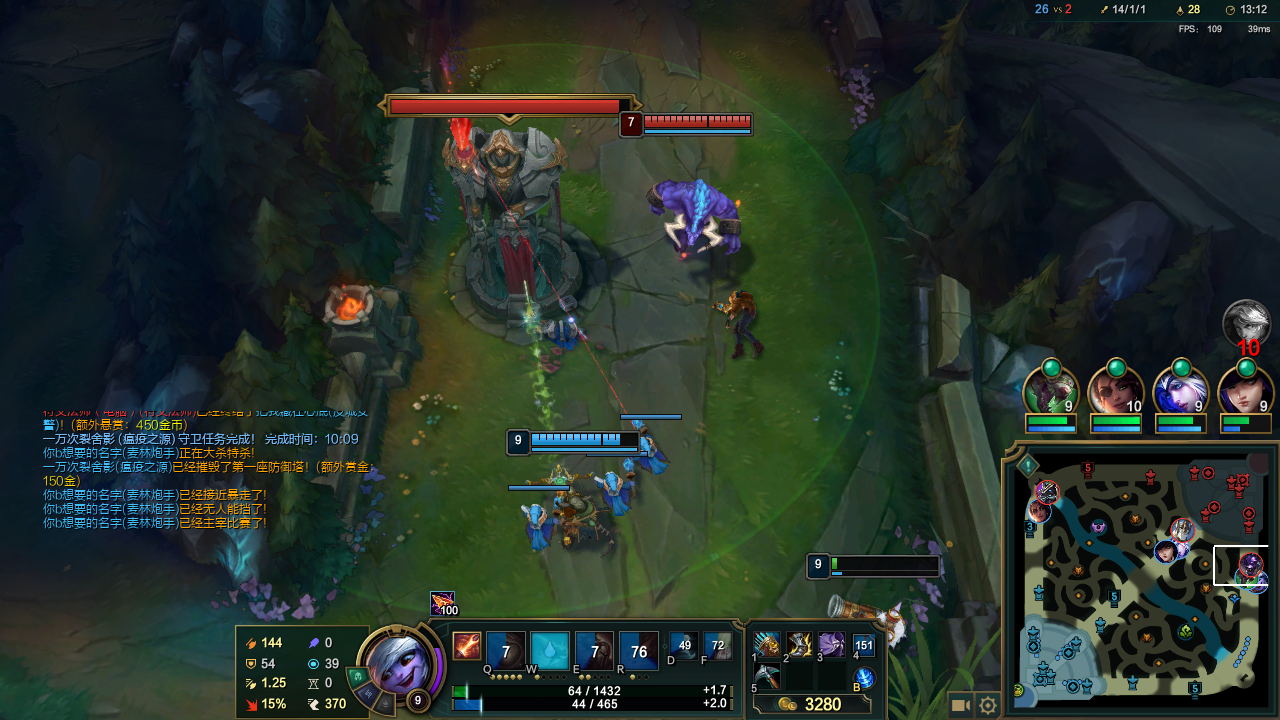DFFYT: (379, 90, 610, 326)
WFXB: (516, 499, 564, 553), (595, 463, 642, 514), (630, 436, 671, 474)
Yita: (1183, 675, 1207, 700)
